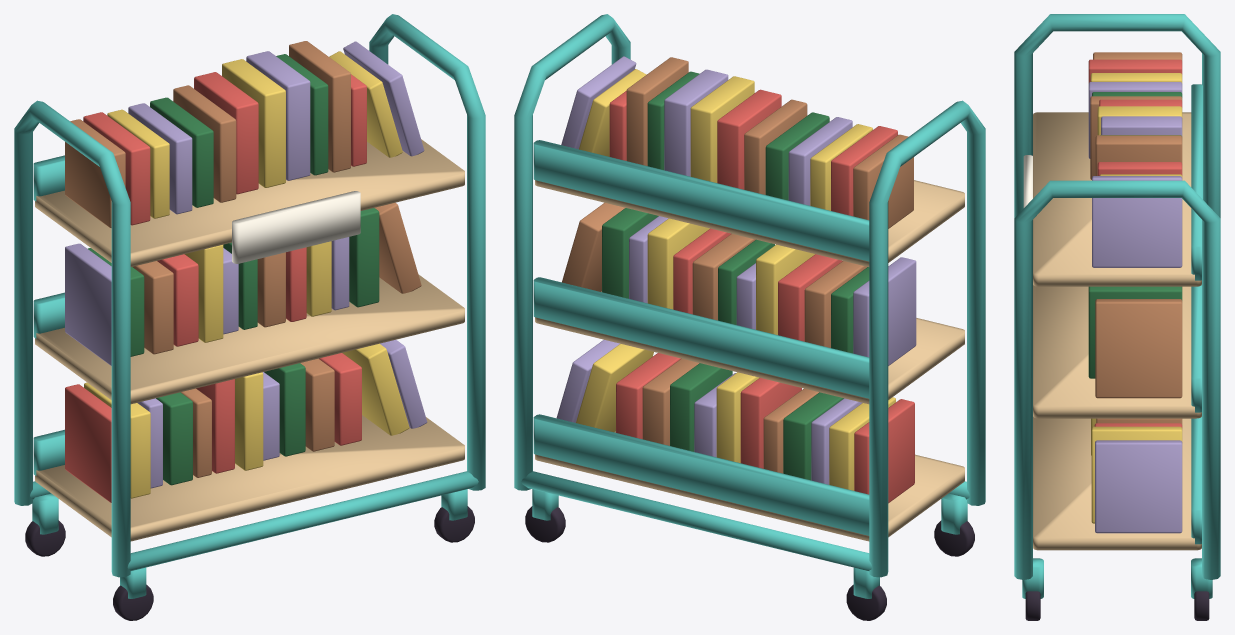
Rendered from book-return-cart.glb.
The picture shows the model from 3 angles, left to right: view 1: azimuth 30°, elevation 25°; view 2: azimuth 150°, elevation 25°; view 3: azimuth 270°, elevation 25°; orthographic projection. The views are drawn at different scales.
Visible parts, largest first — view 1: LibBookCart_WoodLightShelves, LibBookCart_TurquoiseFrame, LibBookCart_TerracottaBooks, LibBookCart_ButterBooks, LibBookCart_CoralBooks, LibBookCart_LavenderBooks, LibBookCart_DeepGreenBooks, LibBookCart_CreamPlaqueAndPages, LibBookCart_SlateWheels; view 2: LibBookCart_TurquoiseFrame, LibBookCart_ButterBooks, LibBookCart_CoralBooks, LibBookCart_TerracottaBooks, LibBookCart_LavenderBooks, LibBookCart_DeepGreenBooks, LibBookCart_WoodLightShelves, LibBookCart_SlateWheels; view 3: LibBookCart_WoodLightShelves, LibBookCart_TurquoiseFrame, LibBookCart_LavenderBooks, LibBookCart_TerracottaBooks, LibBookCart_ButterBooks, LibBookCart_CoralBooks, LibBookCart_DeepGreenBooks, LibBookCart_SlateWheels, LibBookCart_CreamPlaqueAndPages.
Boxes of the visible parts, x1,y1,x2,y2 form: LibBookCart_WoodLightShelves: (35,139,464,541); LibBookCart_TurquoiseFrame: (14,14,485,598); LibBookCart_TerracottaBooks: (65,41,421,477); LibBookCart_ButterBooks: (84,51,409,498); LibBookCart_CoralBooks: (65,72,366,502); LibBookCart_LavenderBooks: (65,41,427,488); LibBookCart_DeepGreenBooks: (88,54,379,485); LibBookCart_CreamPlaqueAndPages: (232,191,360,263); LibBookCart_SlateWheels: (25,506,474,620); LibBookCart_TurquoiseFrame: (514,14,985,598); LibBookCart_ButterBooks: (576,69,895,490); LibBookCart_CoralBooks: (609,89,914,503); LibBookCart_TerracottaBooks: (562,57,913,473); LibBookCart_LavenderBooks: (556,56,916,484); LibBookCart_DeepGreenBooks: (602,71,869,480); LibBookCart_WoodLightShelves: (535,180,964,541); LibBookCart_SlateWheels: (525,506,974,620); LibBookCart_WoodLightShelves: (1033,112,1201,550); LibBookCart_TurquoiseFrame: (1014,14,1220,598); LibBookCart_LavenderBooks: (1088,82,1182,533); LibBookCart_TerracottaBooks: (1090,52,1182,424); LibBookCart_ButterBooks: (1090,73,1182,523); LibBookCart_CoralBooks: (1088,59,1182,427); LibBookCart_DeepGreenBooks: (1088,92,1182,378); LibBookCart_SlateWheels: (1025,591,1209,620); LibBookCart_CreamPlaqueAndPages: (1023,155,1032,207).
Size of the model in its own units: 0.88 by 1.05 by 0.44.
